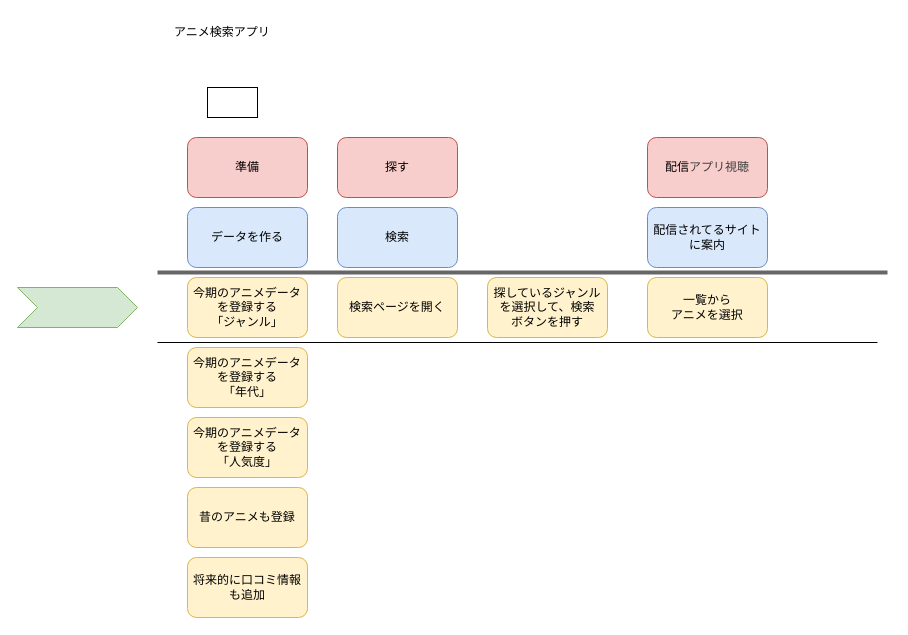
This 908x635 diagram has some shape labels left out. Here are the shapes that lost their labels. From the top down, the box of each, then its label:
(206, 86, 258, 118): アニメ ファン
(16, 286, 138, 328): ウォーキングスケルトン
